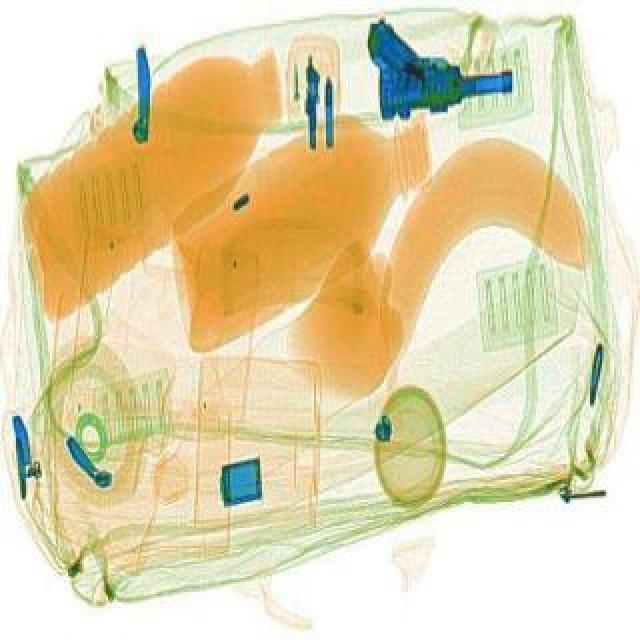gun: (340, 10, 528, 150)
